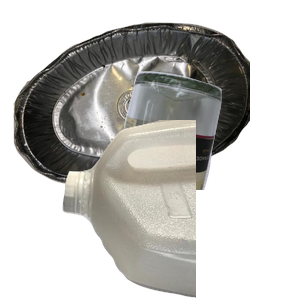glass: (109, 69, 300, 249)
metal: (11, 20, 251, 200)
plastic: (60, 120, 300, 300)
trash: (88, 177, 251, 300)
